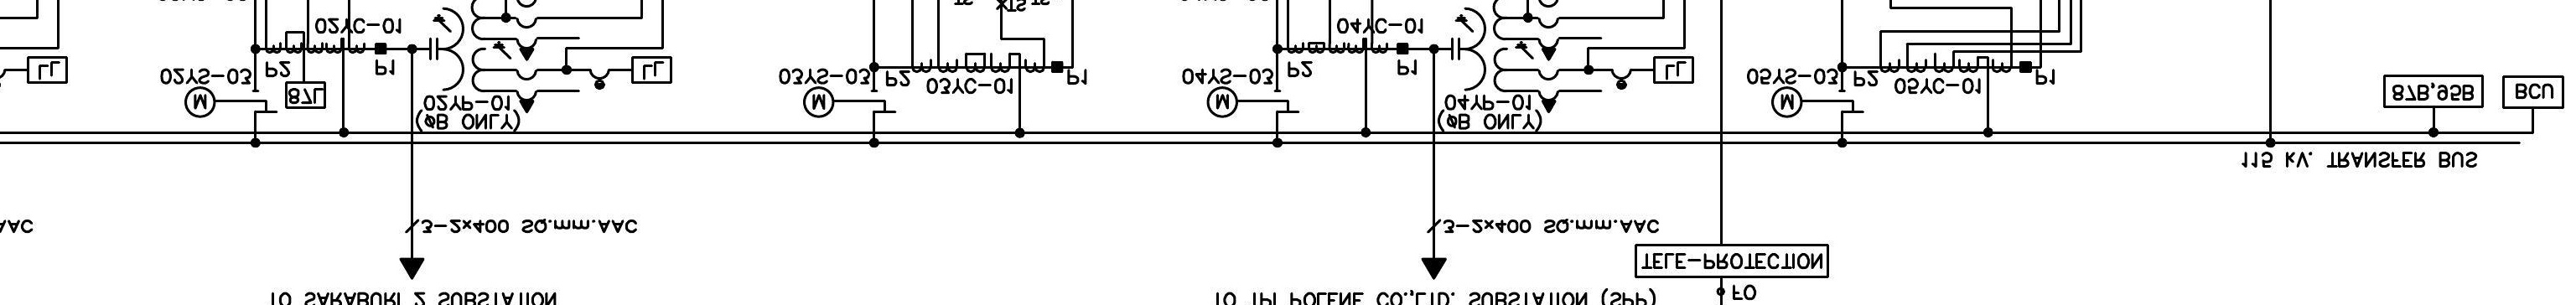115_1way_ds_w_motor: (802, 85, 897, 120), (1206, 85, 1301, 120), (1771, 85, 1865, 120), (184, 85, 278, 118)
BCU: (2502, 75, 2564, 110)
LL: (1653, 56, 1695, 85), (26, 56, 69, 84), (631, 56, 674, 84)
tele_protection: (1635, 244, 1830, 279)
